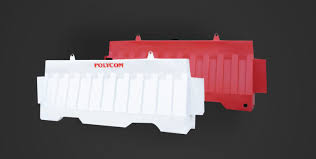barrier: (37, 54, 206, 137), (105, 35, 273, 114)
